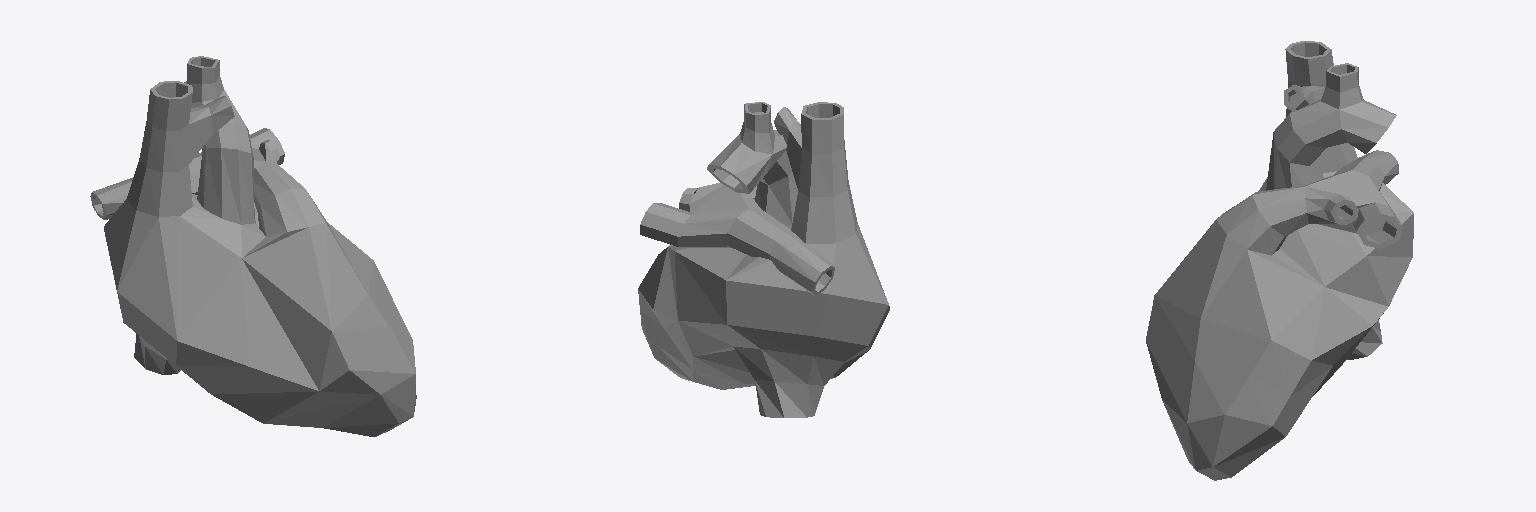
Rendered from heart.obj.
The picture shows the model from 3 angles: view 1: azimuth 30°, elevation 25°; view 2: azimuth 150°, elevation 25°; view 3: azimuth 270°, elevation 25°; orthographic projection.
Parts seen in each view (by area): view 1: Heart.001; view 2: Heart.001; view 3: Heart.001.
Boxes of the visible parts, x1,y1,x2,y2 form: Heart.001: [90, 56, 416, 436]; Heart.001: [638, 102, 889, 417]; Heart.001: [1146, 41, 1413, 480].
Size of the model in its own units: 1.1 by 1.42 by 0.9856.